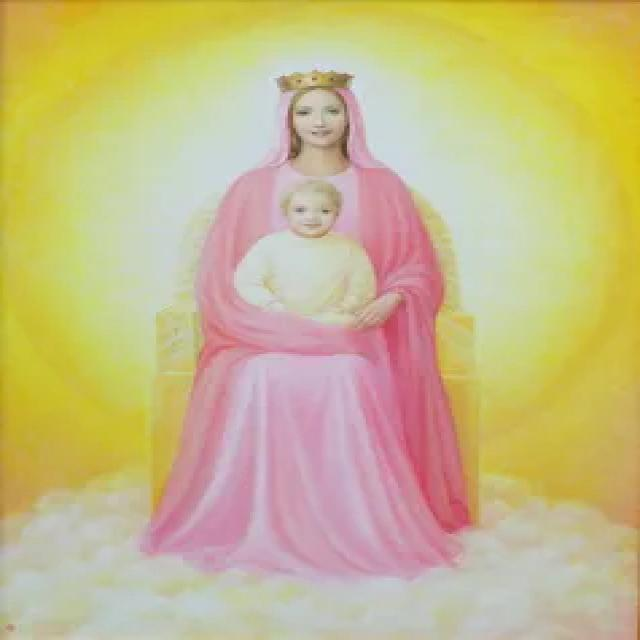mother of god: (144, 58, 492, 568)
